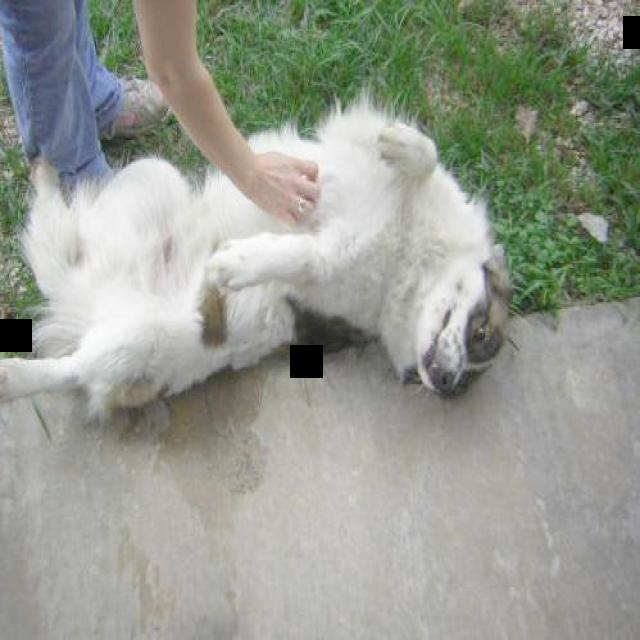adult_dog: (1, 105, 515, 422)
non-dog: (0, 1, 324, 222)
